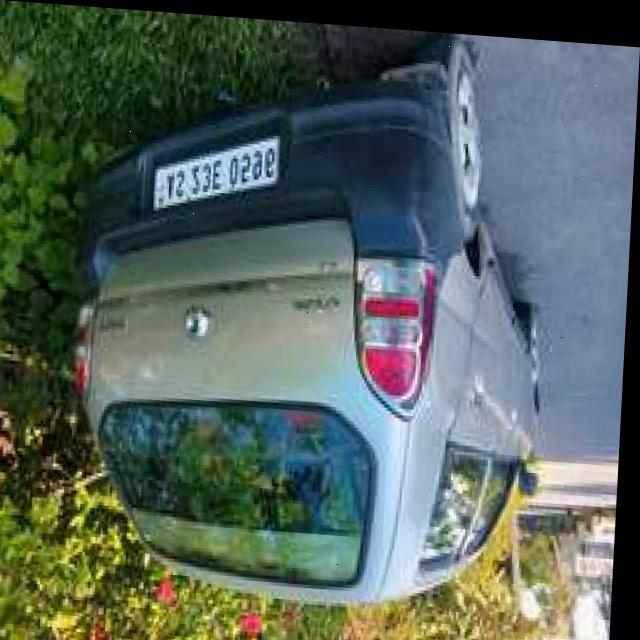plate: (151, 125, 284, 222)
